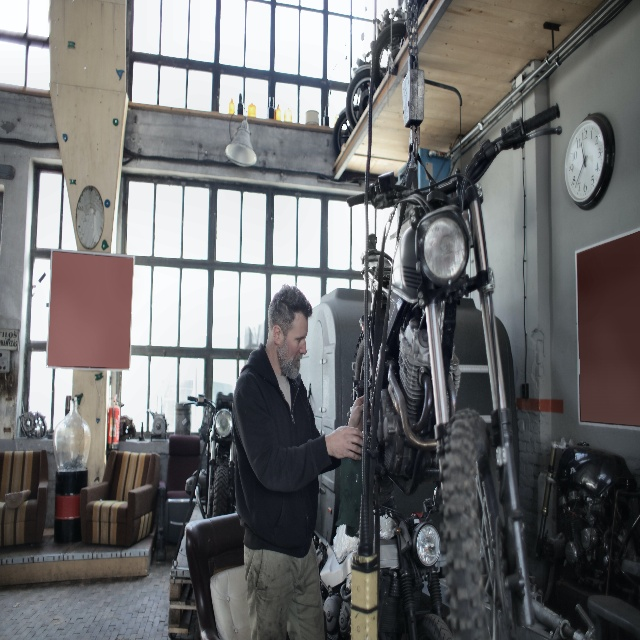Sin_guantes: (330, 425, 363, 461), (347, 395, 364, 432)
